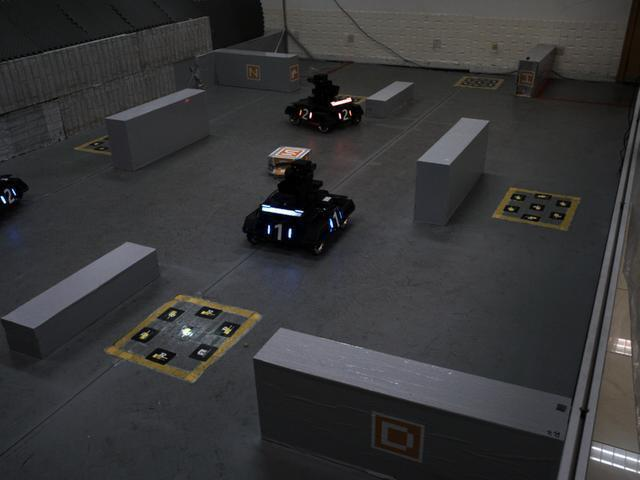armor: (261, 221, 297, 247), (325, 205, 347, 233), (295, 104, 316, 126), (0, 186, 20, 208), (335, 106, 355, 126)
